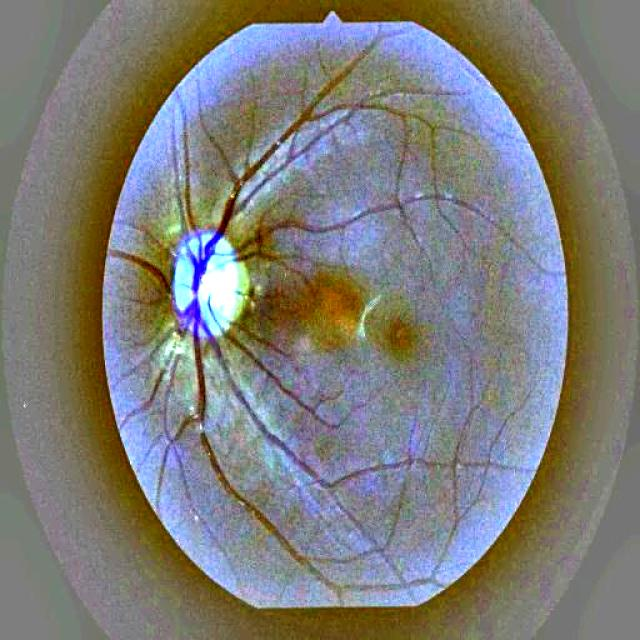Macula: (385, 318, 415, 354)
Nerves: (211, 141, 279, 248), (194, 331, 205, 428), (280, 108, 310, 139)
Optic Disk: (174, 230, 250, 338)
